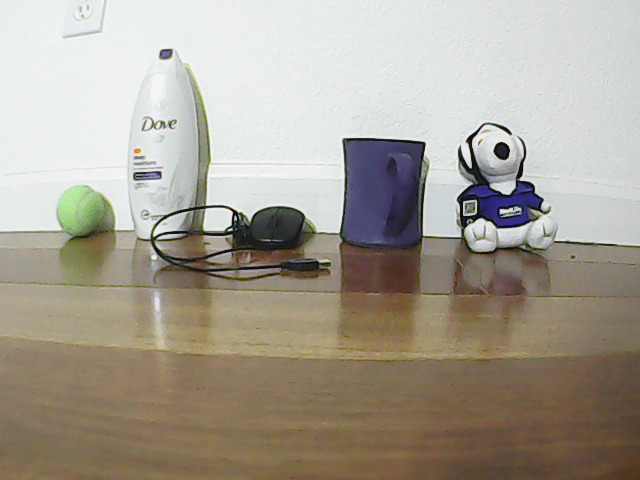ball: (61, 179, 106, 237)
mouse: (248, 204, 308, 248)
mug: (454, 117, 563, 254), (331, 137, 435, 247)
soap: (134, 39, 197, 231)
